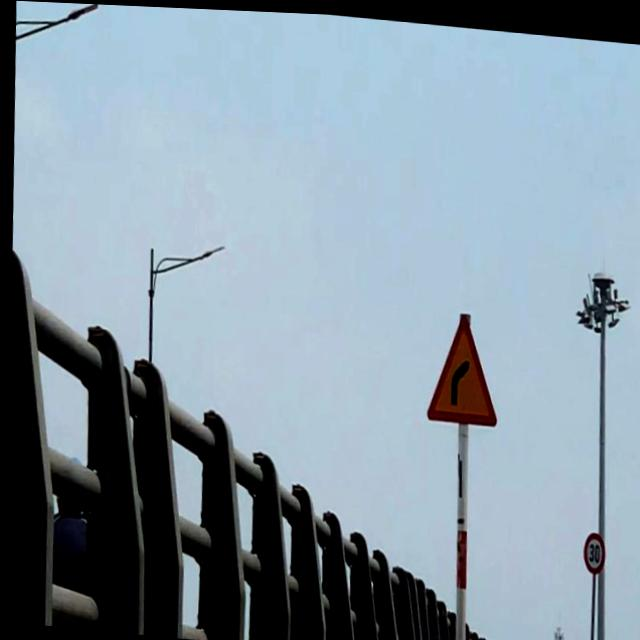Toc do toi da cho phep: (578, 526, 603, 569)
cho ngoat nguy hiem vong ben phai: (417, 296, 504, 430)
